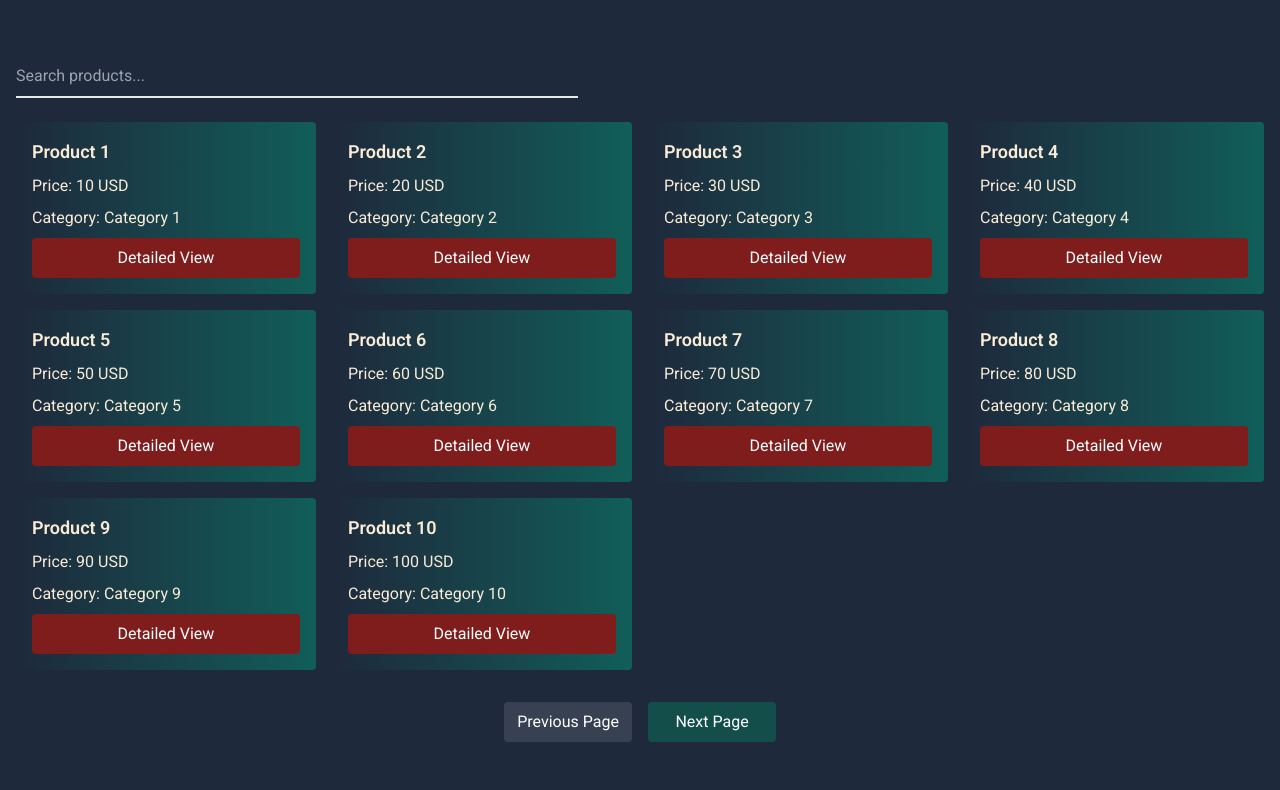
Scenario: Home Component › handles pagination correctly
(page scrolled)
Step 1. Click the button "Next Page" → (712, 722), box [648,702,776,742]
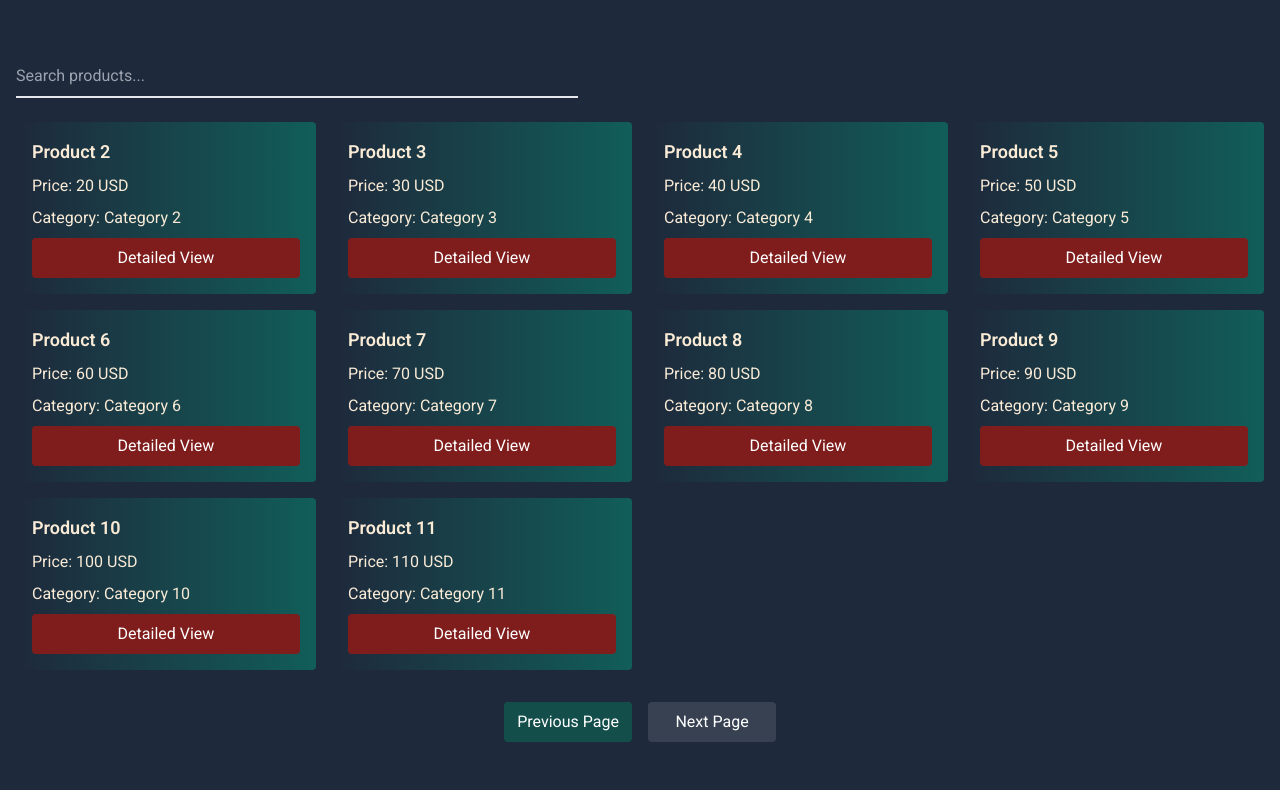
Expected: the heading "Product 11" is shown, [348,517,437,538]
Step 2. Click the button "Previous Page" → (568, 722), box [504,702,632,742]
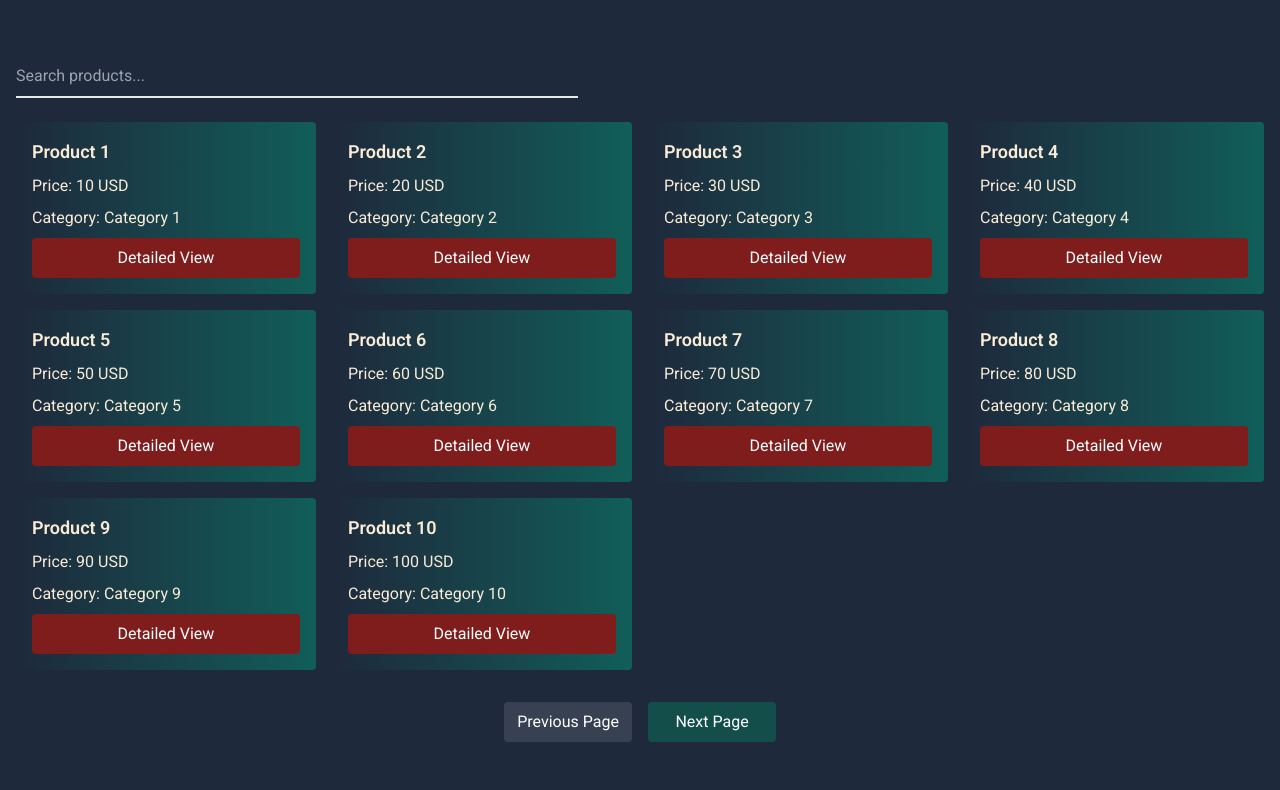
Expected: the heading "Product 1" is shown, [32,141,110,162]
Expected: the heading "Product 11" is gone
